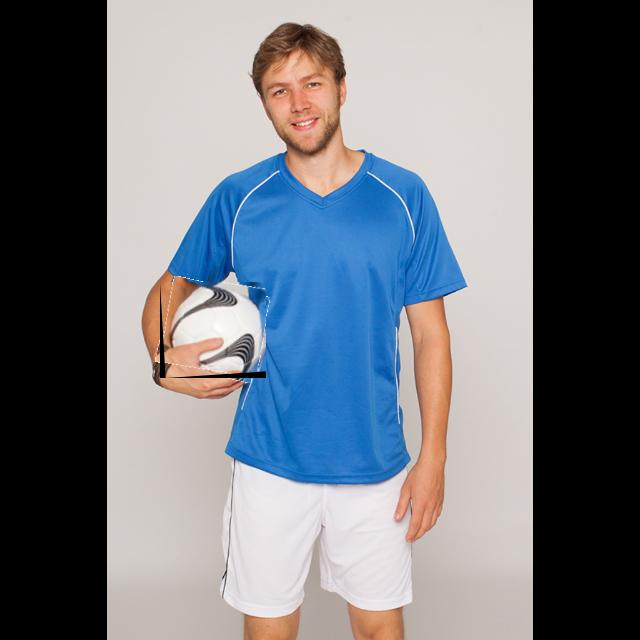Football: (160, 282, 266, 378)
